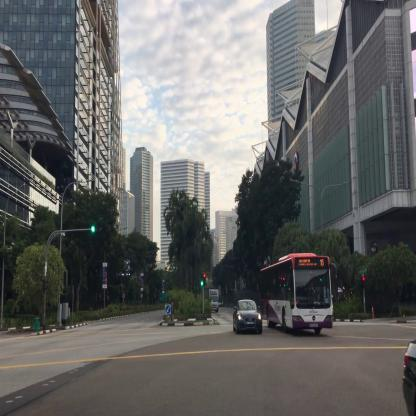green_traffic_light: (91, 226, 101, 231), (201, 274, 203, 286)
